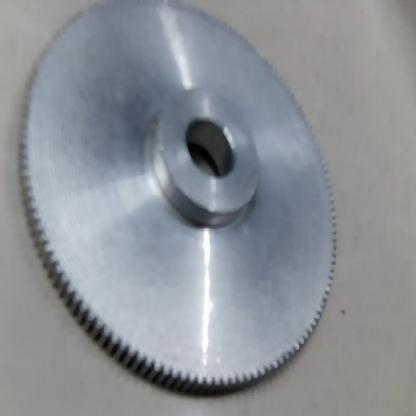FOD: (7, 0, 344, 400)
